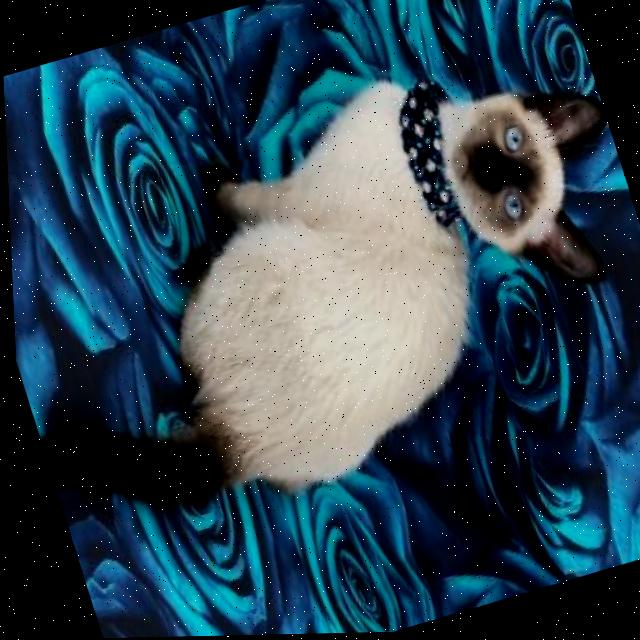Siamese: (1, 20, 640, 566)
